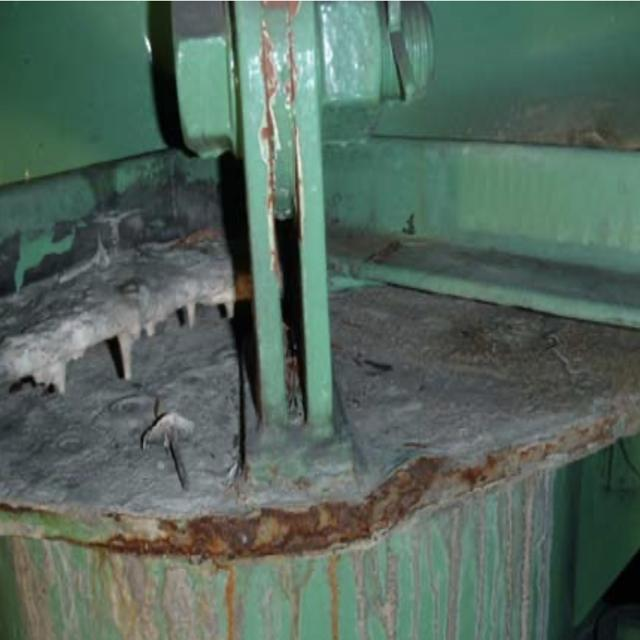corrosion: (65, 420, 616, 567), (249, 8, 324, 222)
